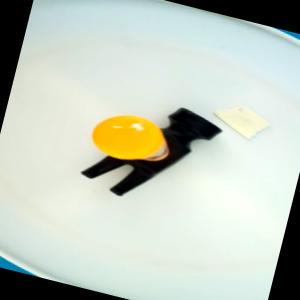martelo: (76, 86, 226, 216)
